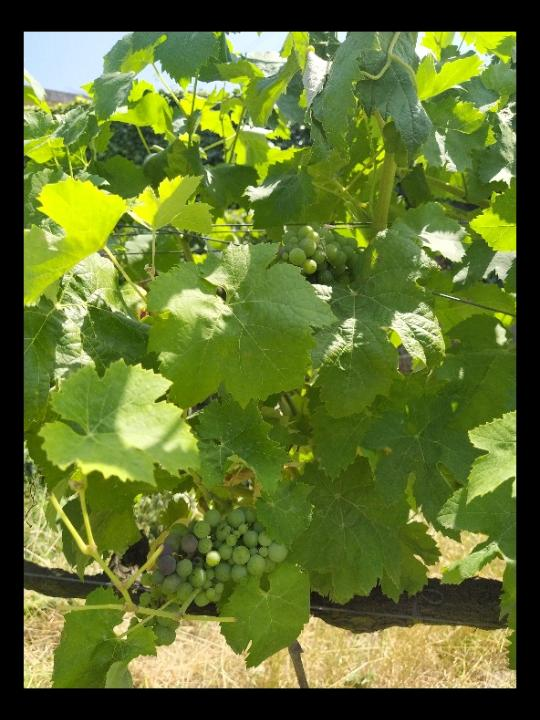grape: (131, 507, 290, 646)
